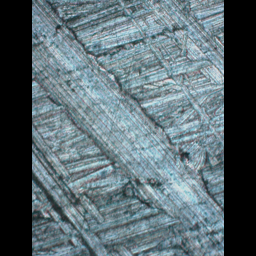d: (32, 0, 223, 254), (31, 103, 135, 255)
